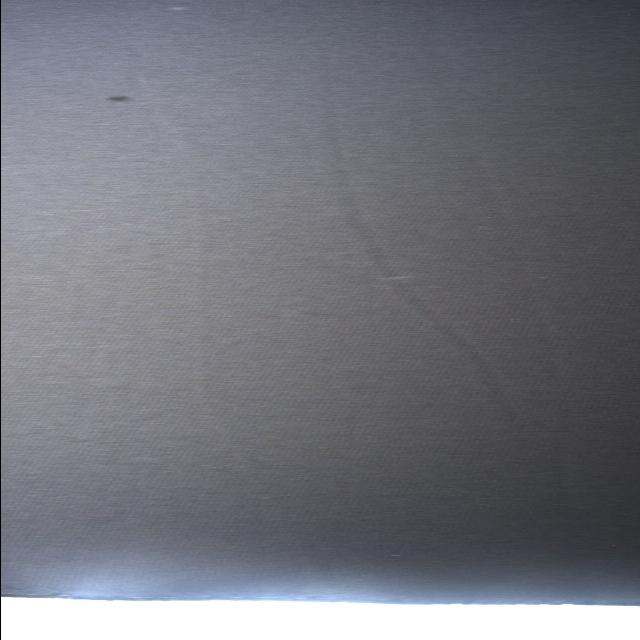crease: (301, 93, 549, 439), (417, 92, 598, 399)
